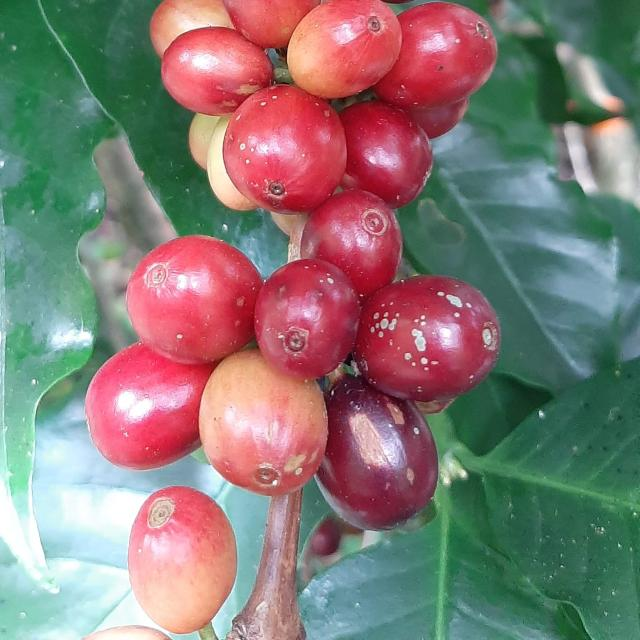red: (317, 376, 438, 531), (354, 276, 501, 403), (126, 235, 263, 364), (84, 343, 217, 471), (223, 84, 347, 214), (373, 1, 498, 107), (254, 259, 360, 379), (301, 189, 403, 302), (339, 99, 434, 208), (161, 26, 274, 115), (405, 96, 470, 138)
yellow: (199, 351, 328, 497), (127, 487, 236, 635), (287, 0, 402, 98), (206, 115, 258, 210), (149, 1, 234, 57), (223, 0, 320, 47), (189, 113, 220, 169)
